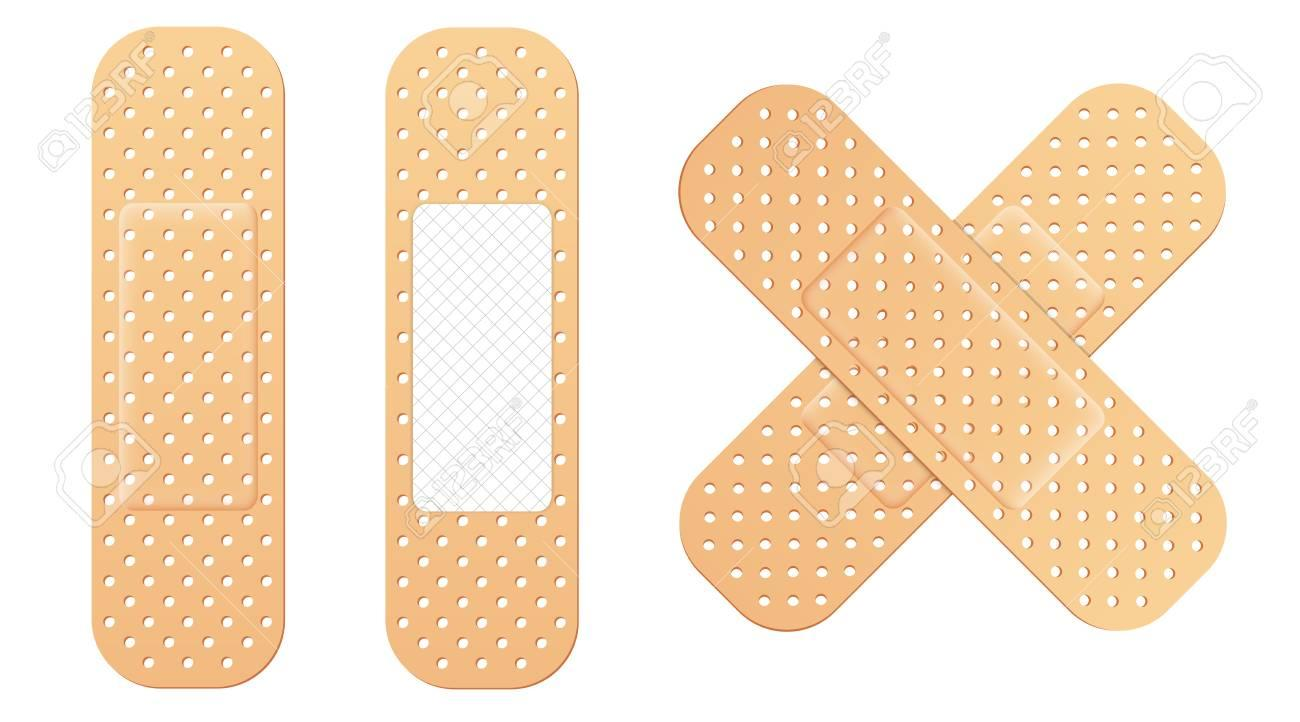bandage: (679, 86, 1229, 633), (385, 23, 576, 686), (93, 27, 283, 686)
